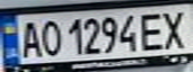1: (63, 15, 84, 55)
2: (81, 15, 103, 54)
4: (118, 11, 142, 53)
9: (100, 14, 121, 54)
A: (15, 18, 42, 58)
E: (136, 8, 169, 52)
O: (36, 17, 63, 57)
X: (157, 7, 193, 51)
